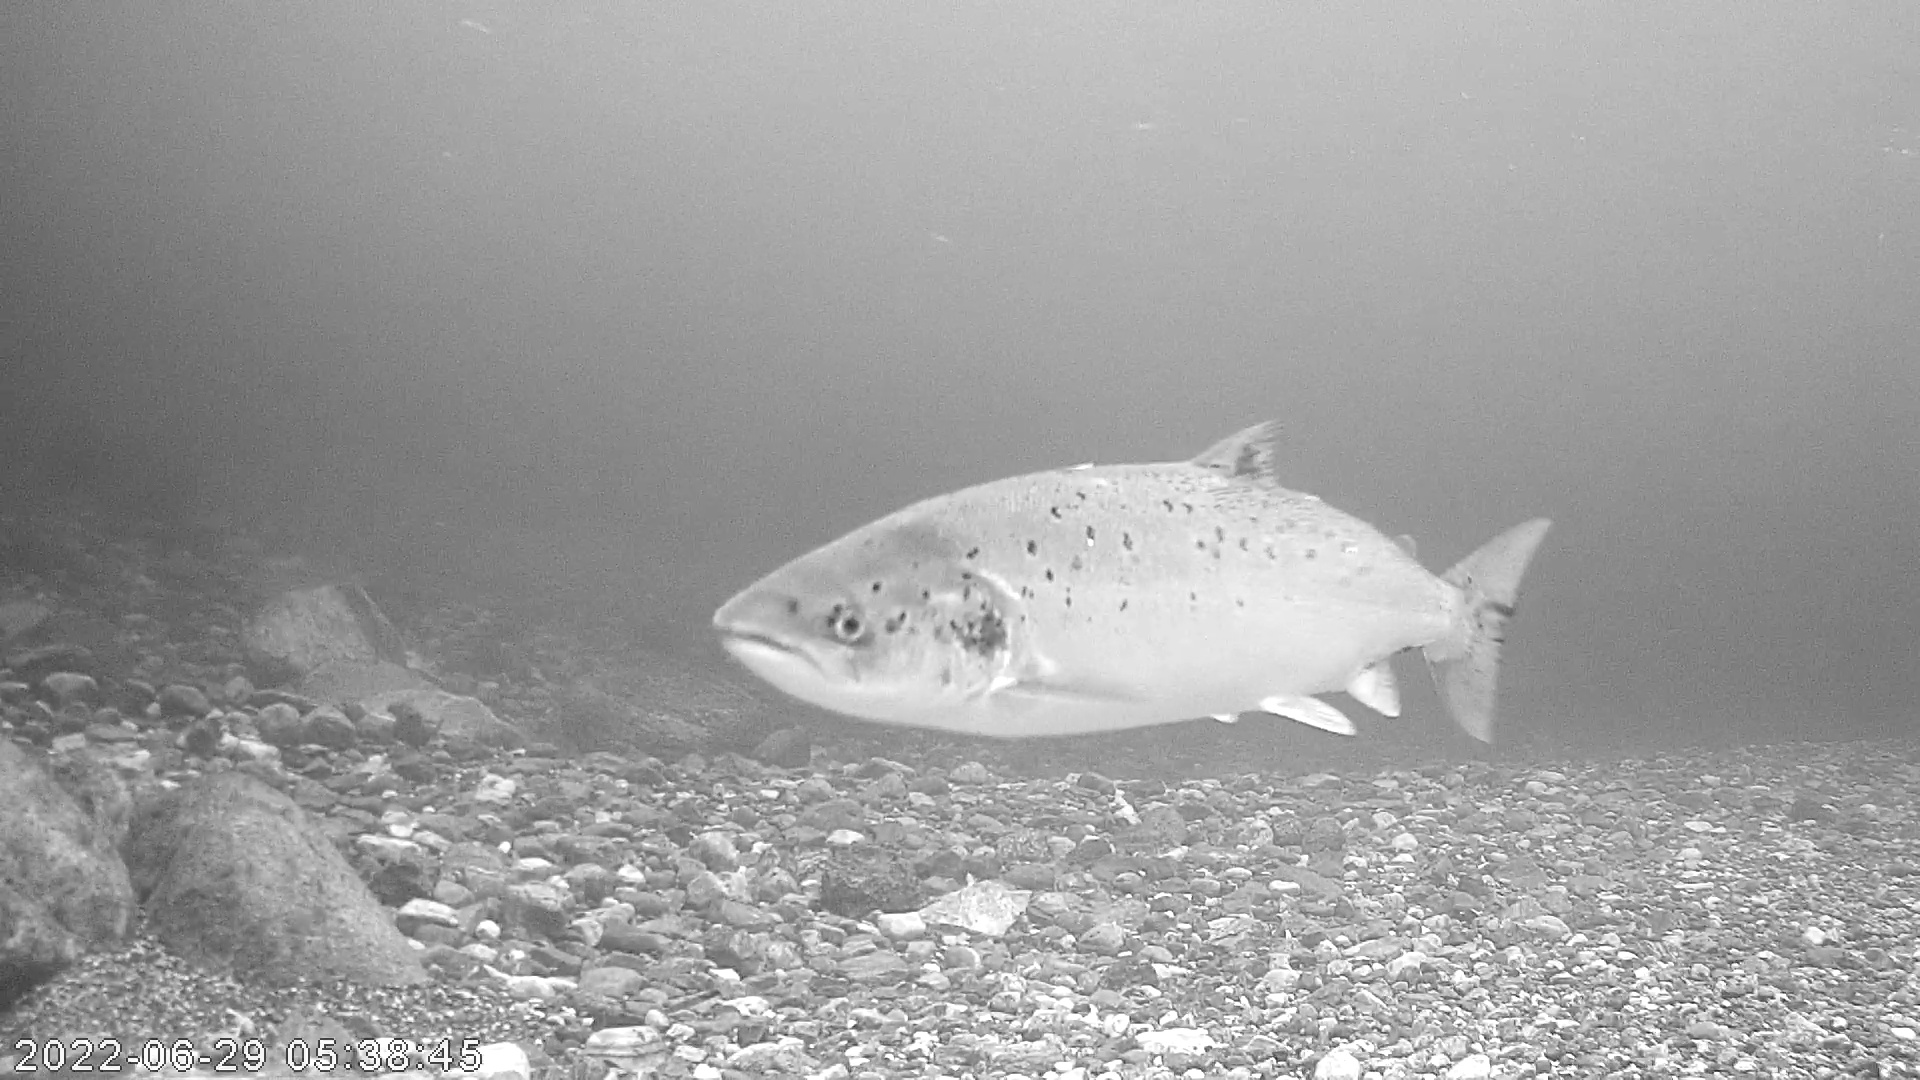salmon: (704, 342, 1538, 752)
